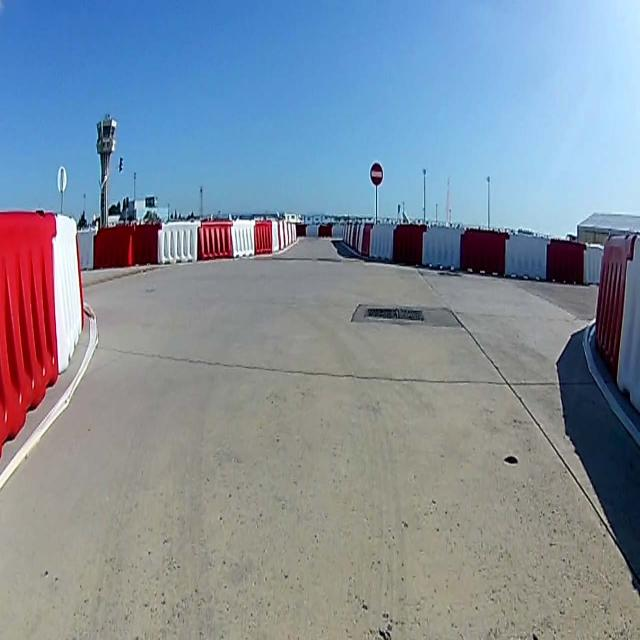girisyok: (371, 162, 384, 185)
